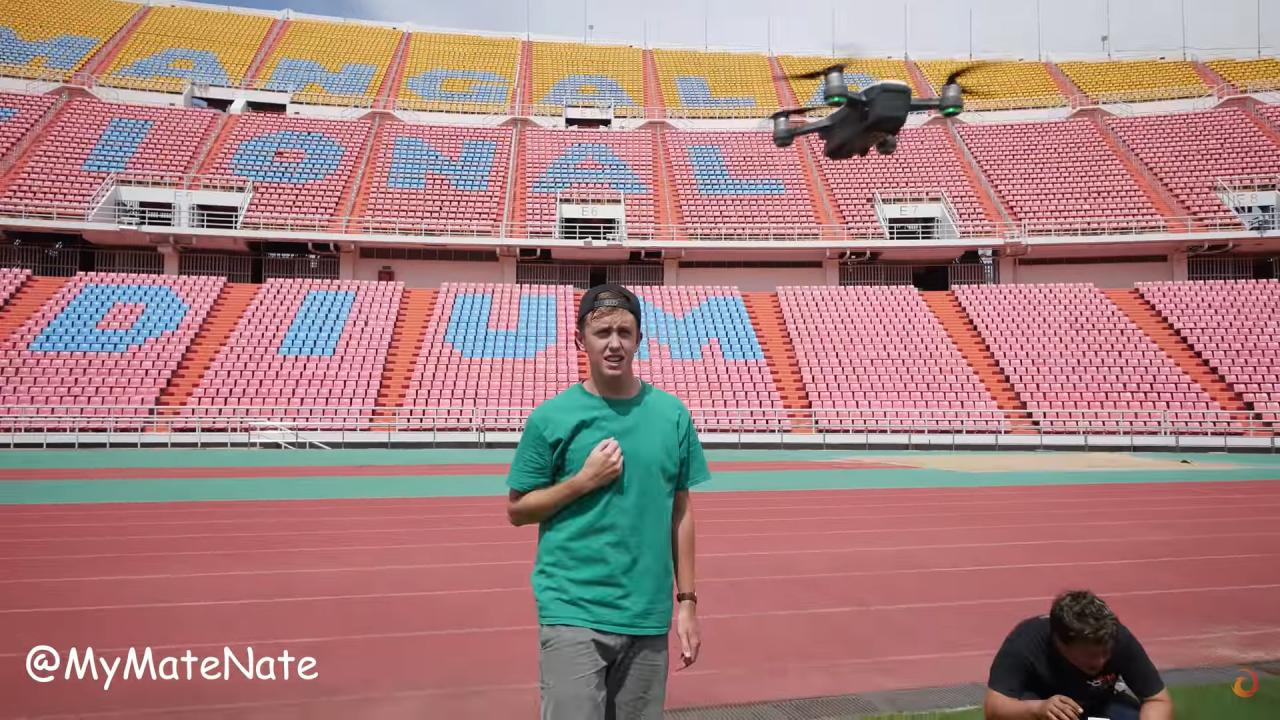Drone: (752, 51, 1006, 170)
